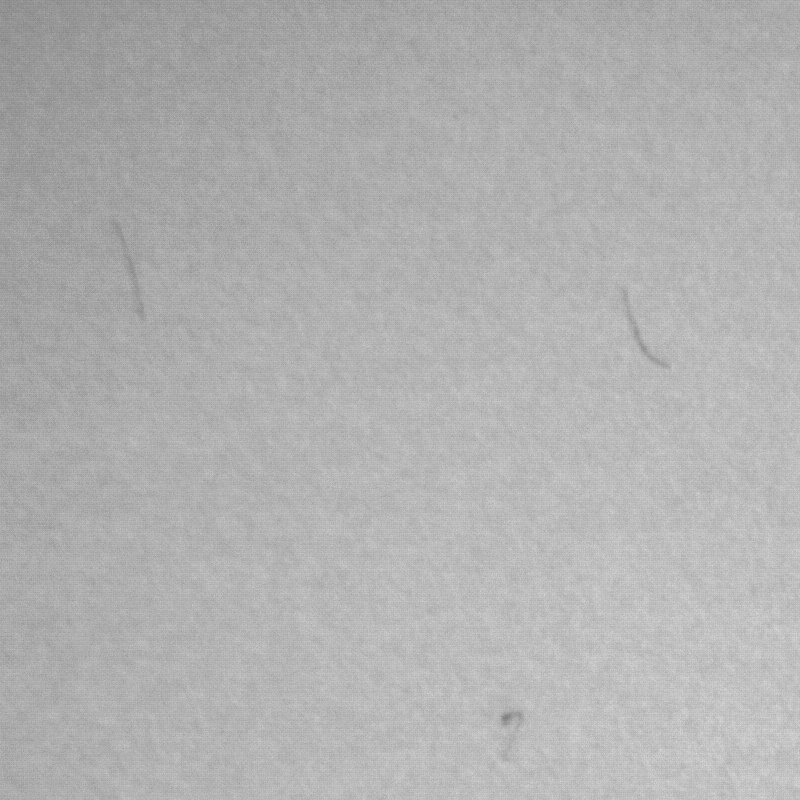defect: (619, 292, 673, 376), (107, 221, 149, 323), (496, 713, 526, 755)
